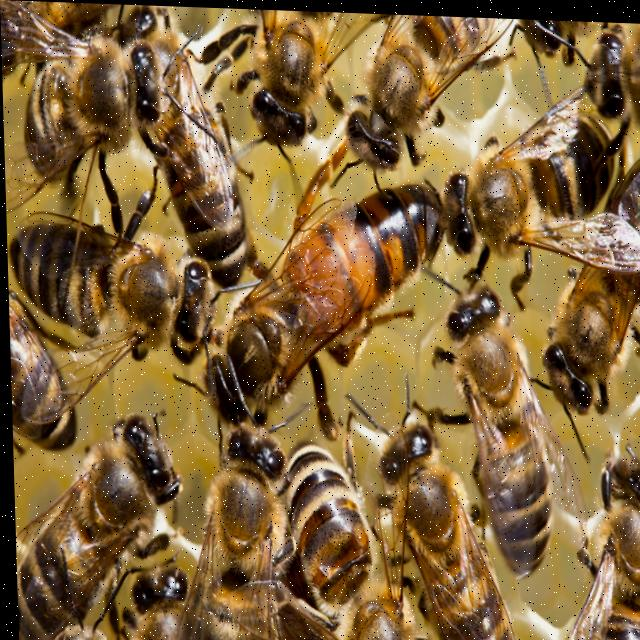Apis-mellifera-scutellata: (201, 154, 426, 446), (101, 3, 260, 284), (429, 258, 565, 582), (355, 391, 527, 640), (18, 185, 202, 393), (0, 2, 192, 201), (9, 397, 159, 640), (266, 422, 415, 640), (536, 138, 640, 420), (329, 10, 508, 158), (432, 119, 633, 247), (199, 416, 279, 640), (6, 268, 79, 474), (240, 7, 332, 165), (578, 432, 640, 640)
